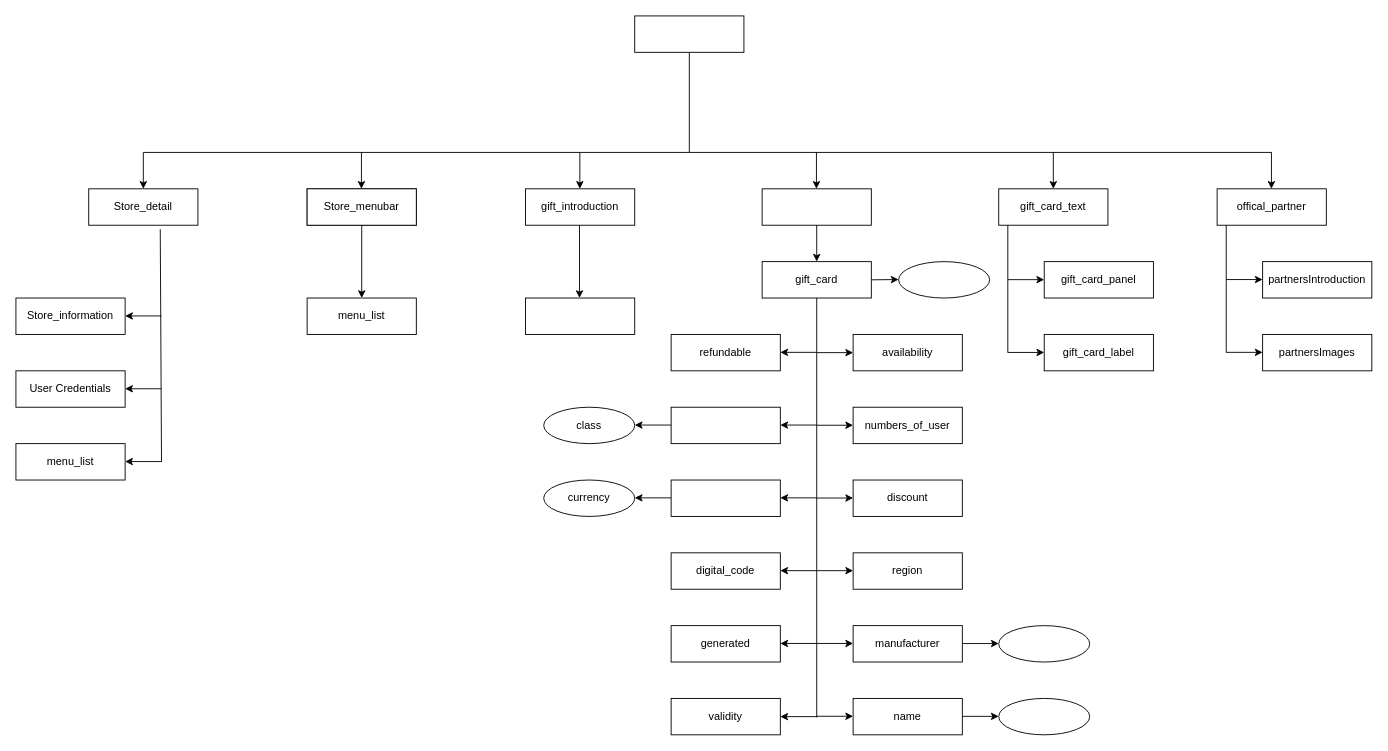
Some shapes in this 1388 by 751 pixel diagram are drawn without their labels. The centre of each missing label's shape, as x and y in pixels:
"cost" belongs at [725,497].
"Gift _card store" belongs at [689,33].
"gift_cards" belongs at [816,206].
"gift_description" belongs at [580,315].
"giftID" belongs at [944,279].
"platform" belongs at [1044,643].
"service_type" belongs at [725,425].
"type" belongs at [1044,716].
